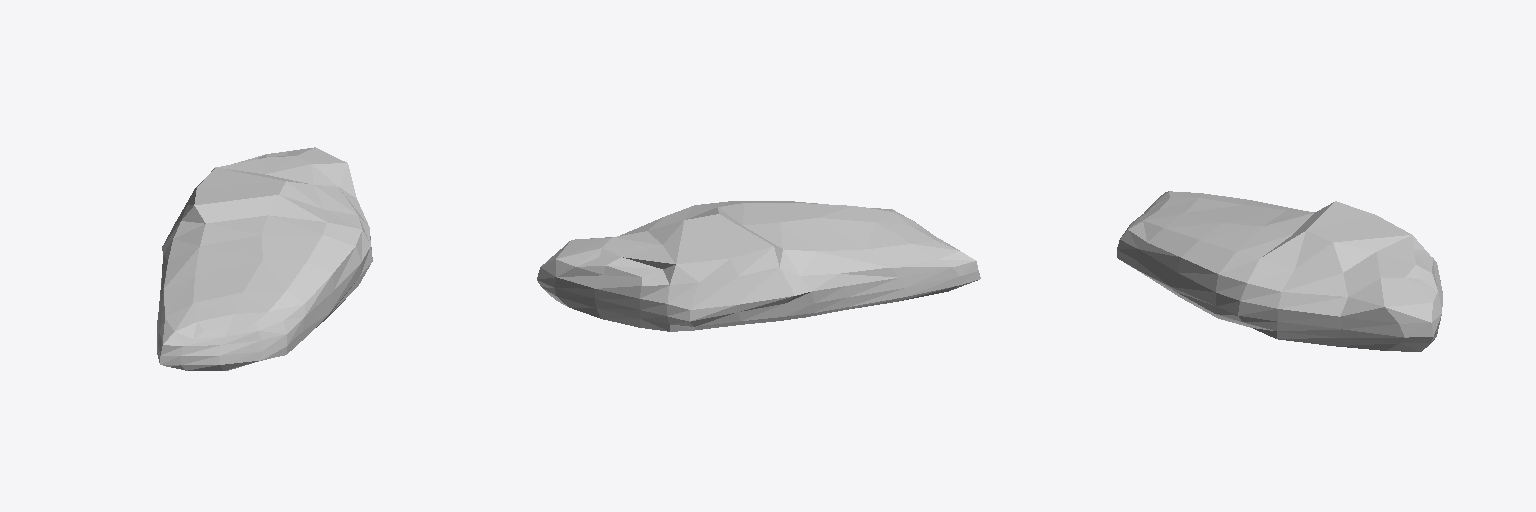
Rendered from stone.obj.
3 views of the same model, side by side, from view 1: azimuth 30°, elevation 25°; view 2: azimuth 150°, elevation 25°; view 3: azimuth 270°, elevation 25° (orthographic).
Visible parts, largest first — view 1: Stone07_1; view 2: Stone07_1; view 3: Stone07_1.
Boxes of the visible parts, <box> form: Stone07_1: <box>157,147,372,370</box>; Stone07_1: <box>537,201,980,331</box>; Stone07_1: <box>1117,191,1442,351</box>.
Bounding box in the file's own units: 247 × 65.42 × 225.